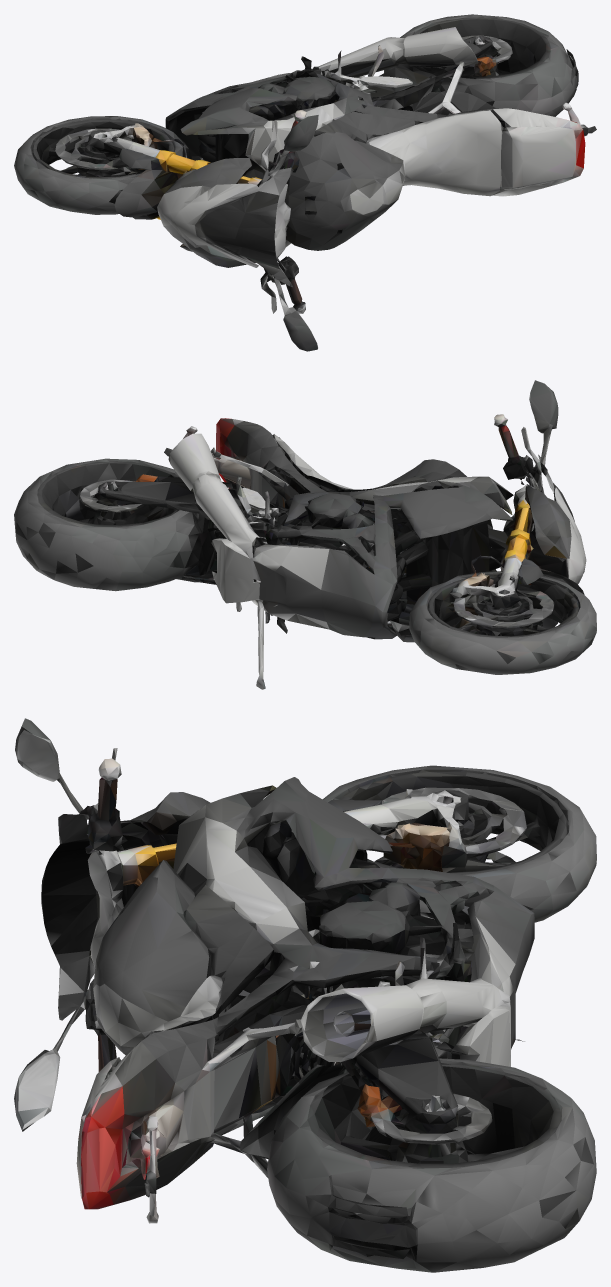
Rendered from bike.glb.
The picture shows the model from 3 angles, top to bottom: view 1: azimuth 30°, elevation 25°; view 2: azimuth 150°, elevation 25°; view 3: azimuth 270°, elevation 25°; orthographic projection. The views are drawn at different scales.
Size of the model in its own units: 1.9 by 0.7957 by 1.04.
Materials: 1 (1 with a texture image).
